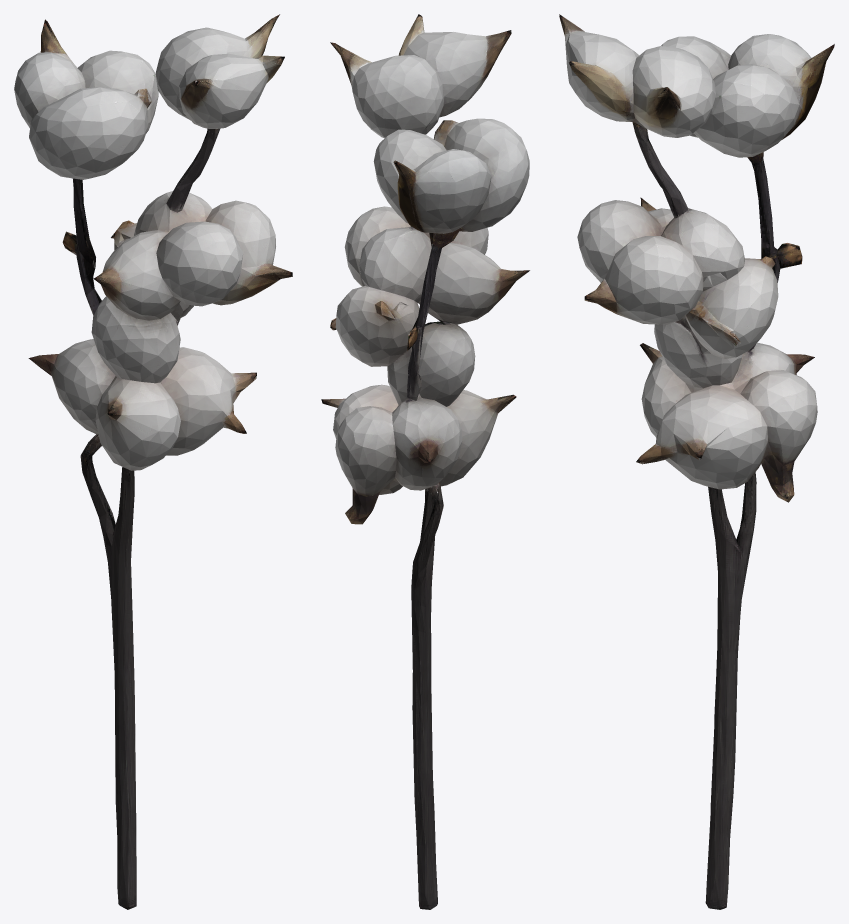
Rendered from cluster.dae.
The picture shows the model from 3 angles, left to right: view 1: azimuth 30°, elevation 25°; view 2: azimuth 150°, elevation 25°; view 3: azimuth 270°, elevation 25°; orthographic projection. The views are drawn at different scales.
Visible parts, largest first — view 1: world; view 2: world; view 3: world.
Boxes of the visible parts, <box> form: world: <box>14,14,292,909</box>; world: <box>321,14,529,909</box>; world: <box>559,14,834,909</box>.
Bounding box in the file's own units: 0.2676 × 0.2819 × 1.
Materials: 1 (1 with a texture image).
